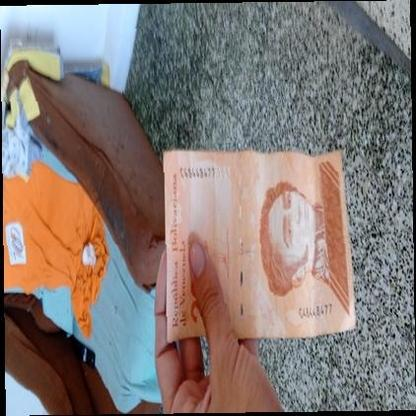twenty-front-vef: (161, 149, 355, 342)
